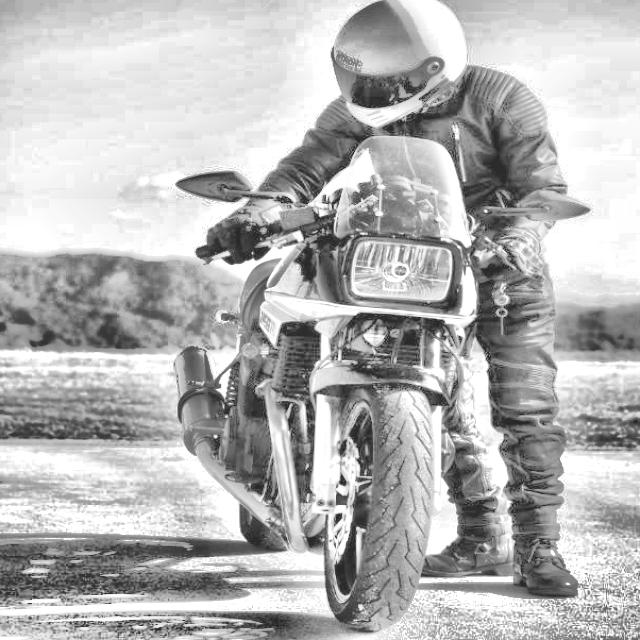Helmet: (325, 0, 474, 131)
